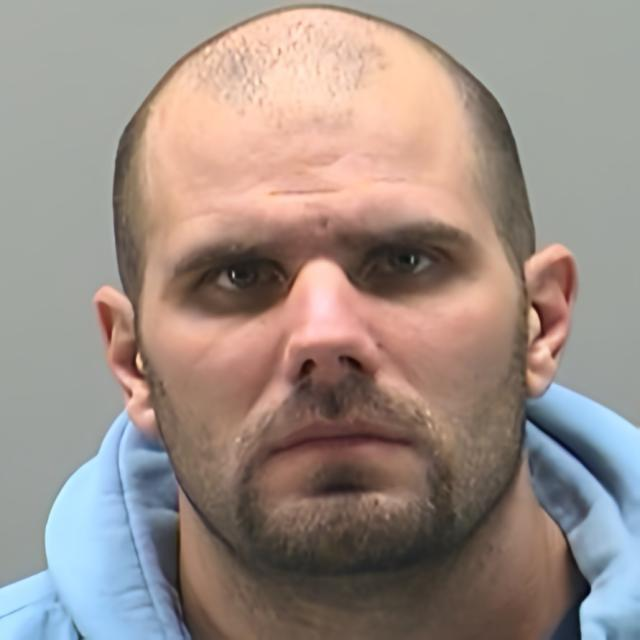anger: (141, 68, 523, 578)
